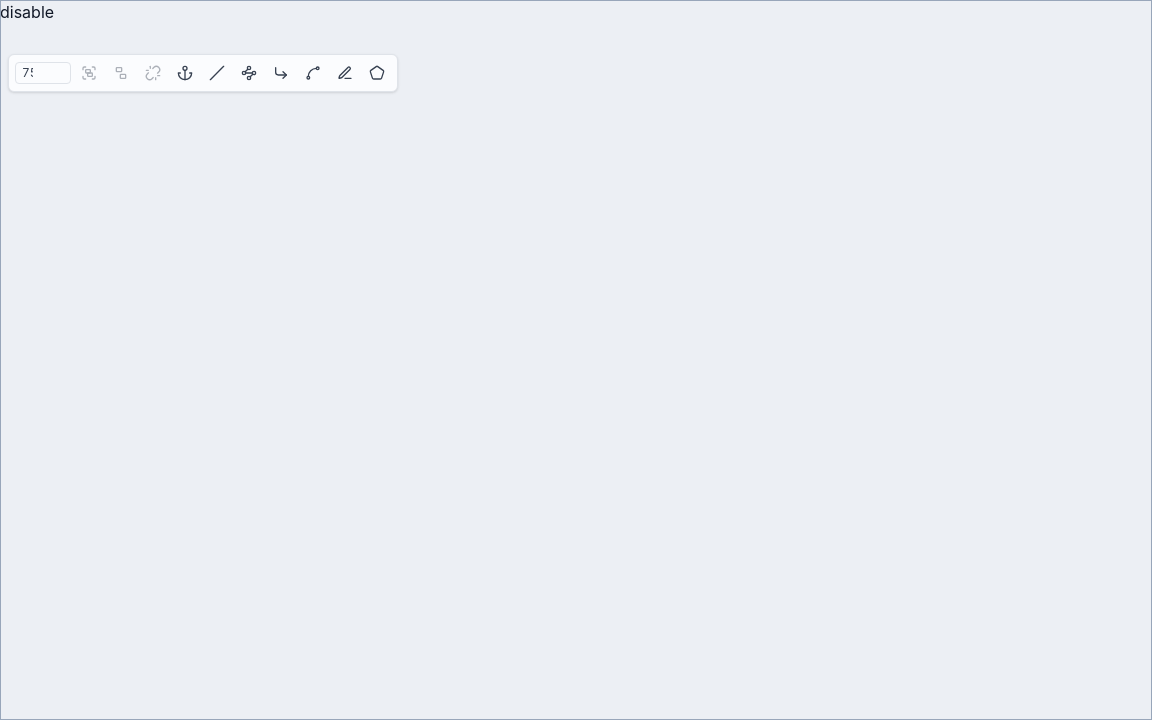
Test: 선과 텍스트에는 더할 수 없고, 그 사실을 화면이 말한다 (AC-24) › 거절 안내가 뜬다 — **조용한 무효가 아니다**
Click the button with test id "canvas-anchor-tool": (185,73) left=171, top=59, right=199, bottom=87
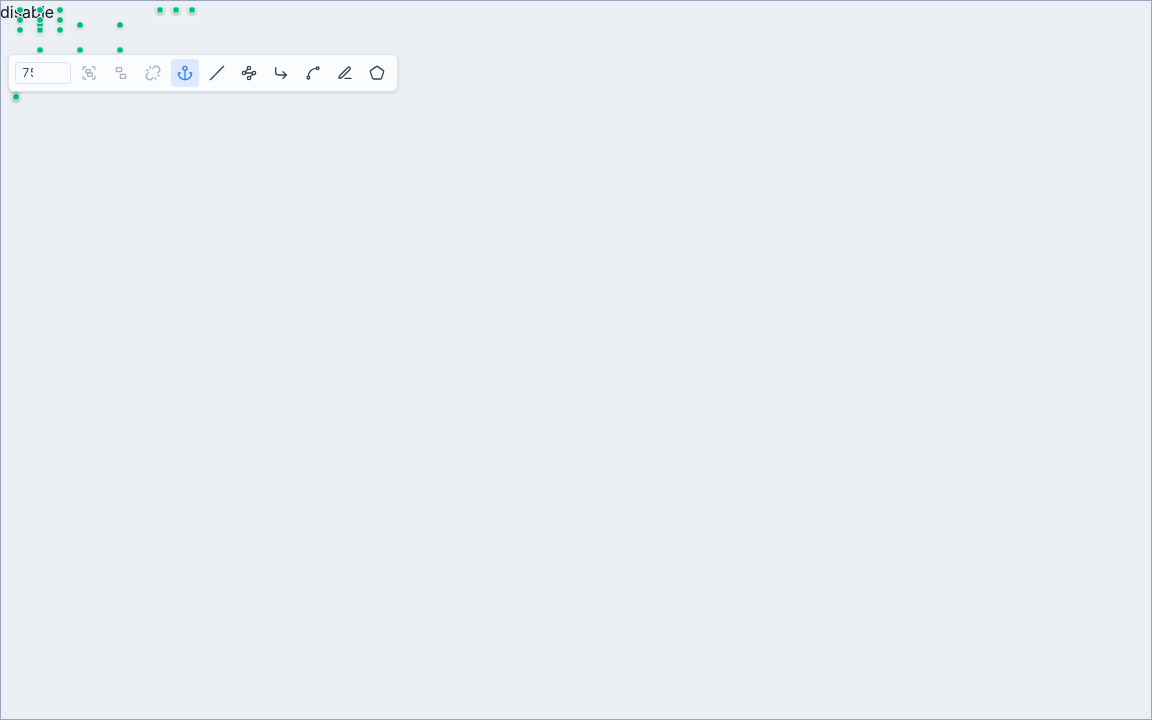
Check: the button with test id "canvas-anchor-tool" is pressed, box left=171, top=59, right=199, bottom=87
Press the mouse on the element with test id "canvas-edit-overlay": (576,360) left=0, top=0, right=1151, bottom=719
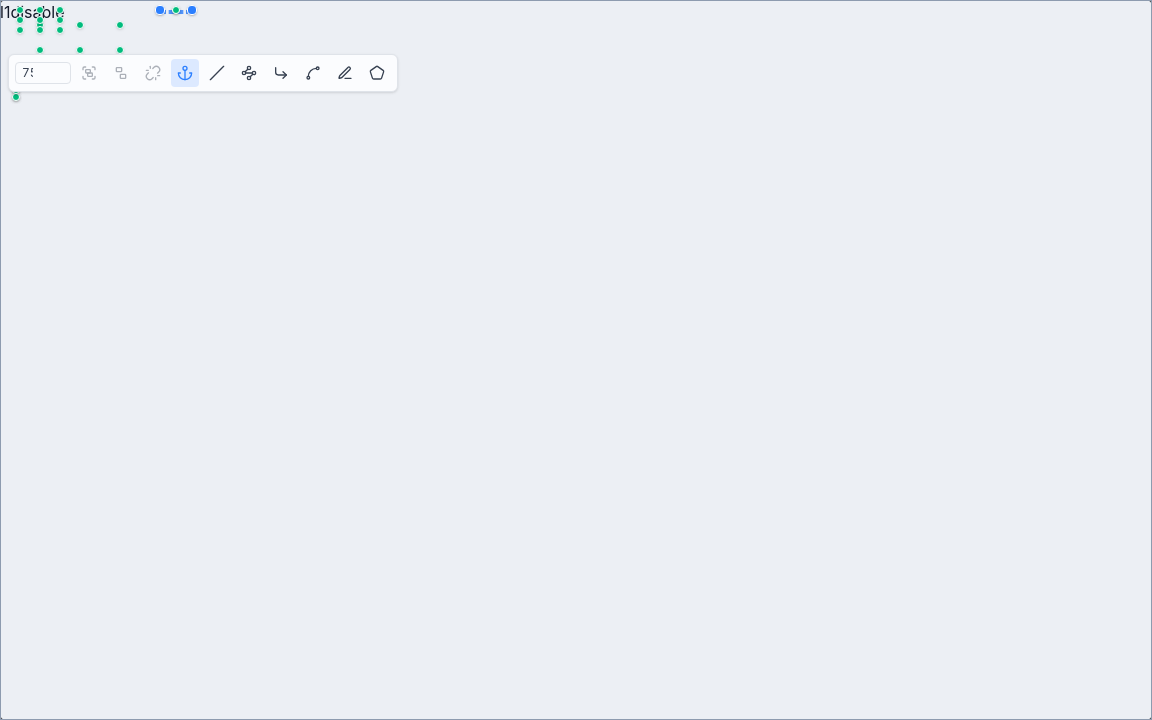
Press the mouse on the element with test id "canvas-edit-overlay": (576,360) left=0, top=0, right=1151, bottom=719
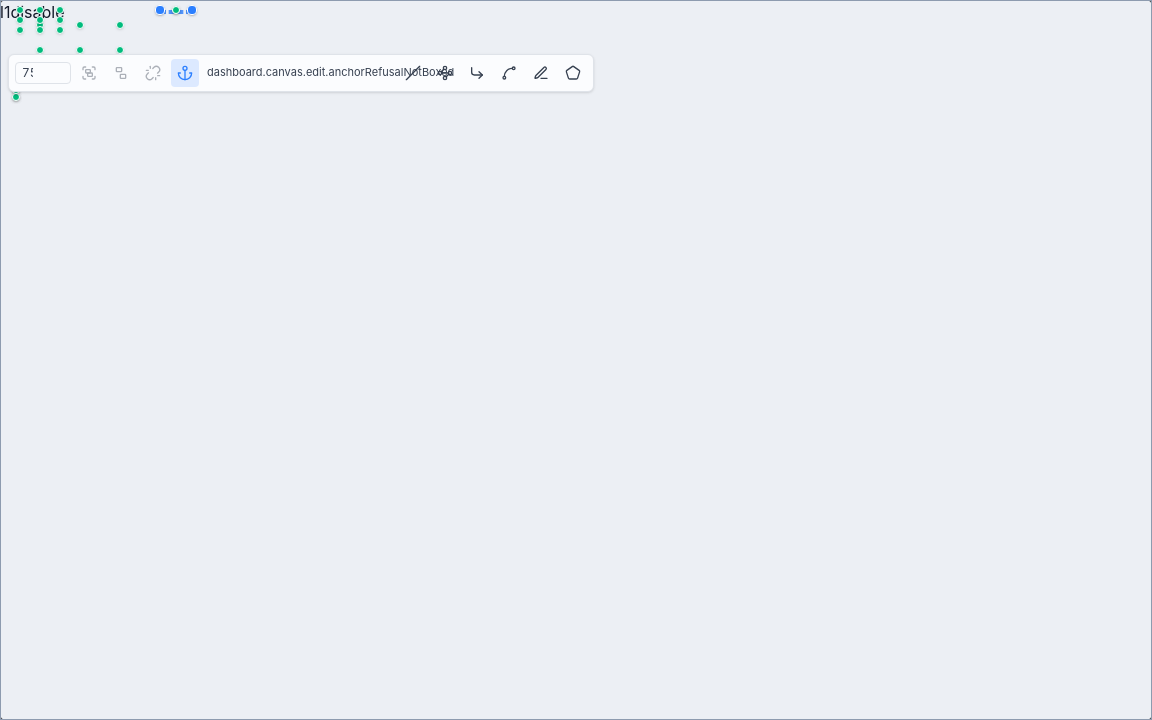
Check: the message with test id "canvas-anchor-refusal" reads "dashboard.canvas.edit.anchorRefusalNotBoxed", box left=207, top=65, right=454, bottom=79
